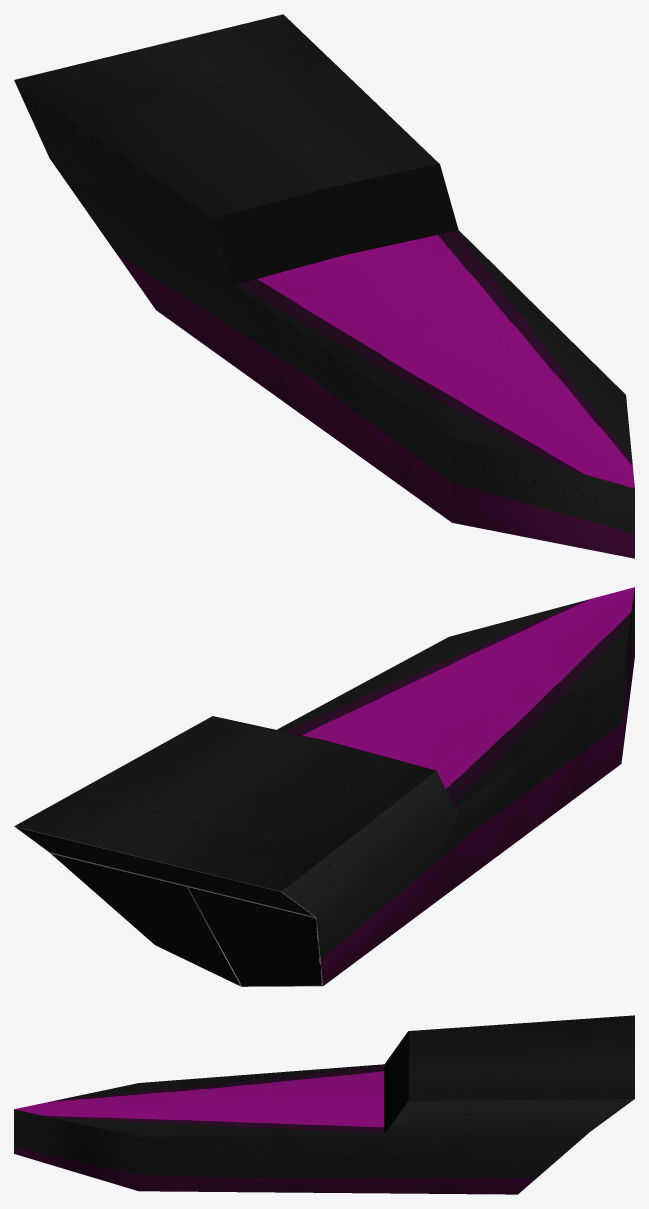
The model's file is speederBoat02_PINK.fbx.
The picture shows the model from 3 angles, top to bottom: view 1: azimuth 30°, elevation 25°; view 2: azimuth 150°, elevation 25°; view 3: azimuth 270°, elevation 25°; orthographic projection. The views are drawn at different scales.
Parts seen in each view (by area): view 1: pCube1; view 2: pCube1; view 3: pCube1.
Part boxes in pixels (x1=…): pCube1: x1=14, y1=14, x2=634, y2=558; pCube1: x1=14, y1=587, x2=634, y2=986; pCube1: x1=14, y1=1015, x2=634, y2=1194.
Bounding box in the file's own units: 12.45 × 8.64 × 39.11.
1 material, 1 textured.
